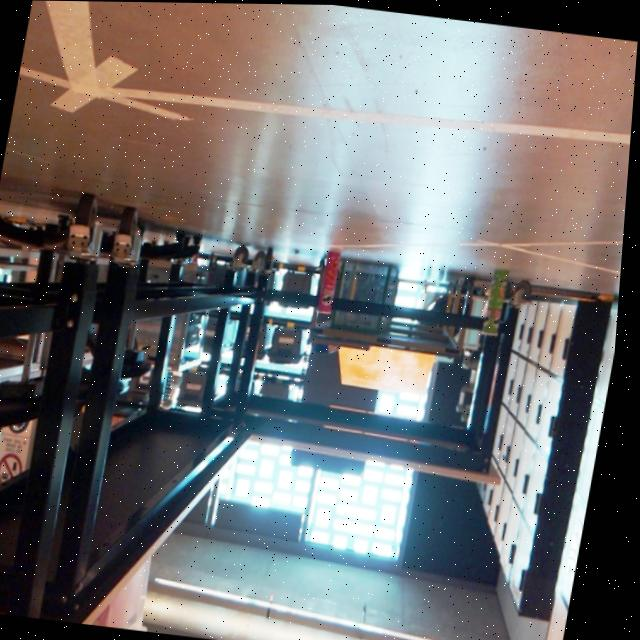greenpringles: (479, 256, 524, 337)
redpringles: (315, 242, 350, 320)
